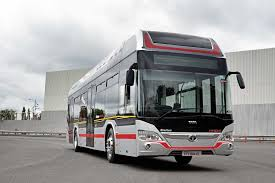bus: (64, 29, 245, 166)
